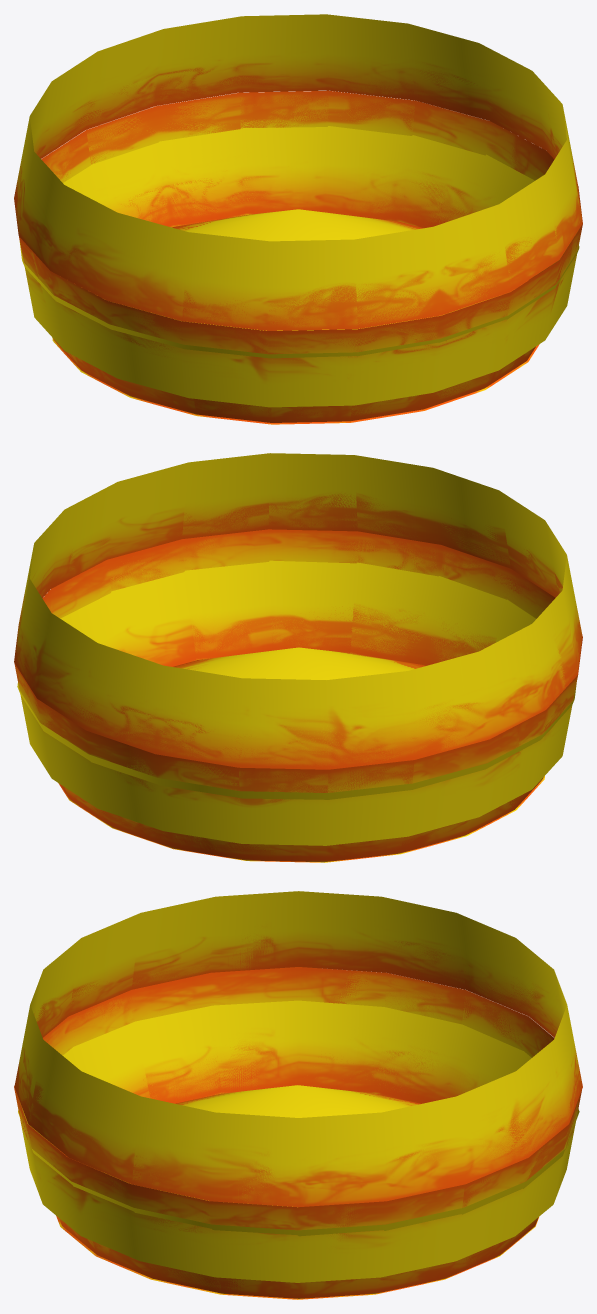
The model's file is Effect_Fire_Boom.FBX.
The picture shows the model from 3 angles, top to bottom: view 1: azimuth 30°, elevation 25°; view 2: azimuth 150°, elevation 25°; view 3: azimuth 270°, elevation 25°; orthographic projection.
Visible parts, largest first — view 1: Object34, Object33, Object01; view 2: Object34, Object33, Object01; view 3: Object34, Object33, Object01.
Boxes of the visible parts, x1,y1,x2,y2 form: Object34: [14, 14, 582, 407]; Object33: [19, 126, 579, 422]; Object01: [52, 209, 539, 424]; Object34: [14, 453, 582, 845]; Object33: [17, 560, 576, 862]; Object01: [58, 647, 544, 862]; Object34: [14, 891, 582, 1282]; Object33: [18, 1000, 579, 1298]; Object01: [56, 1085, 538, 1299].
Size of the model in its own units: 656 by 242 by 656.
